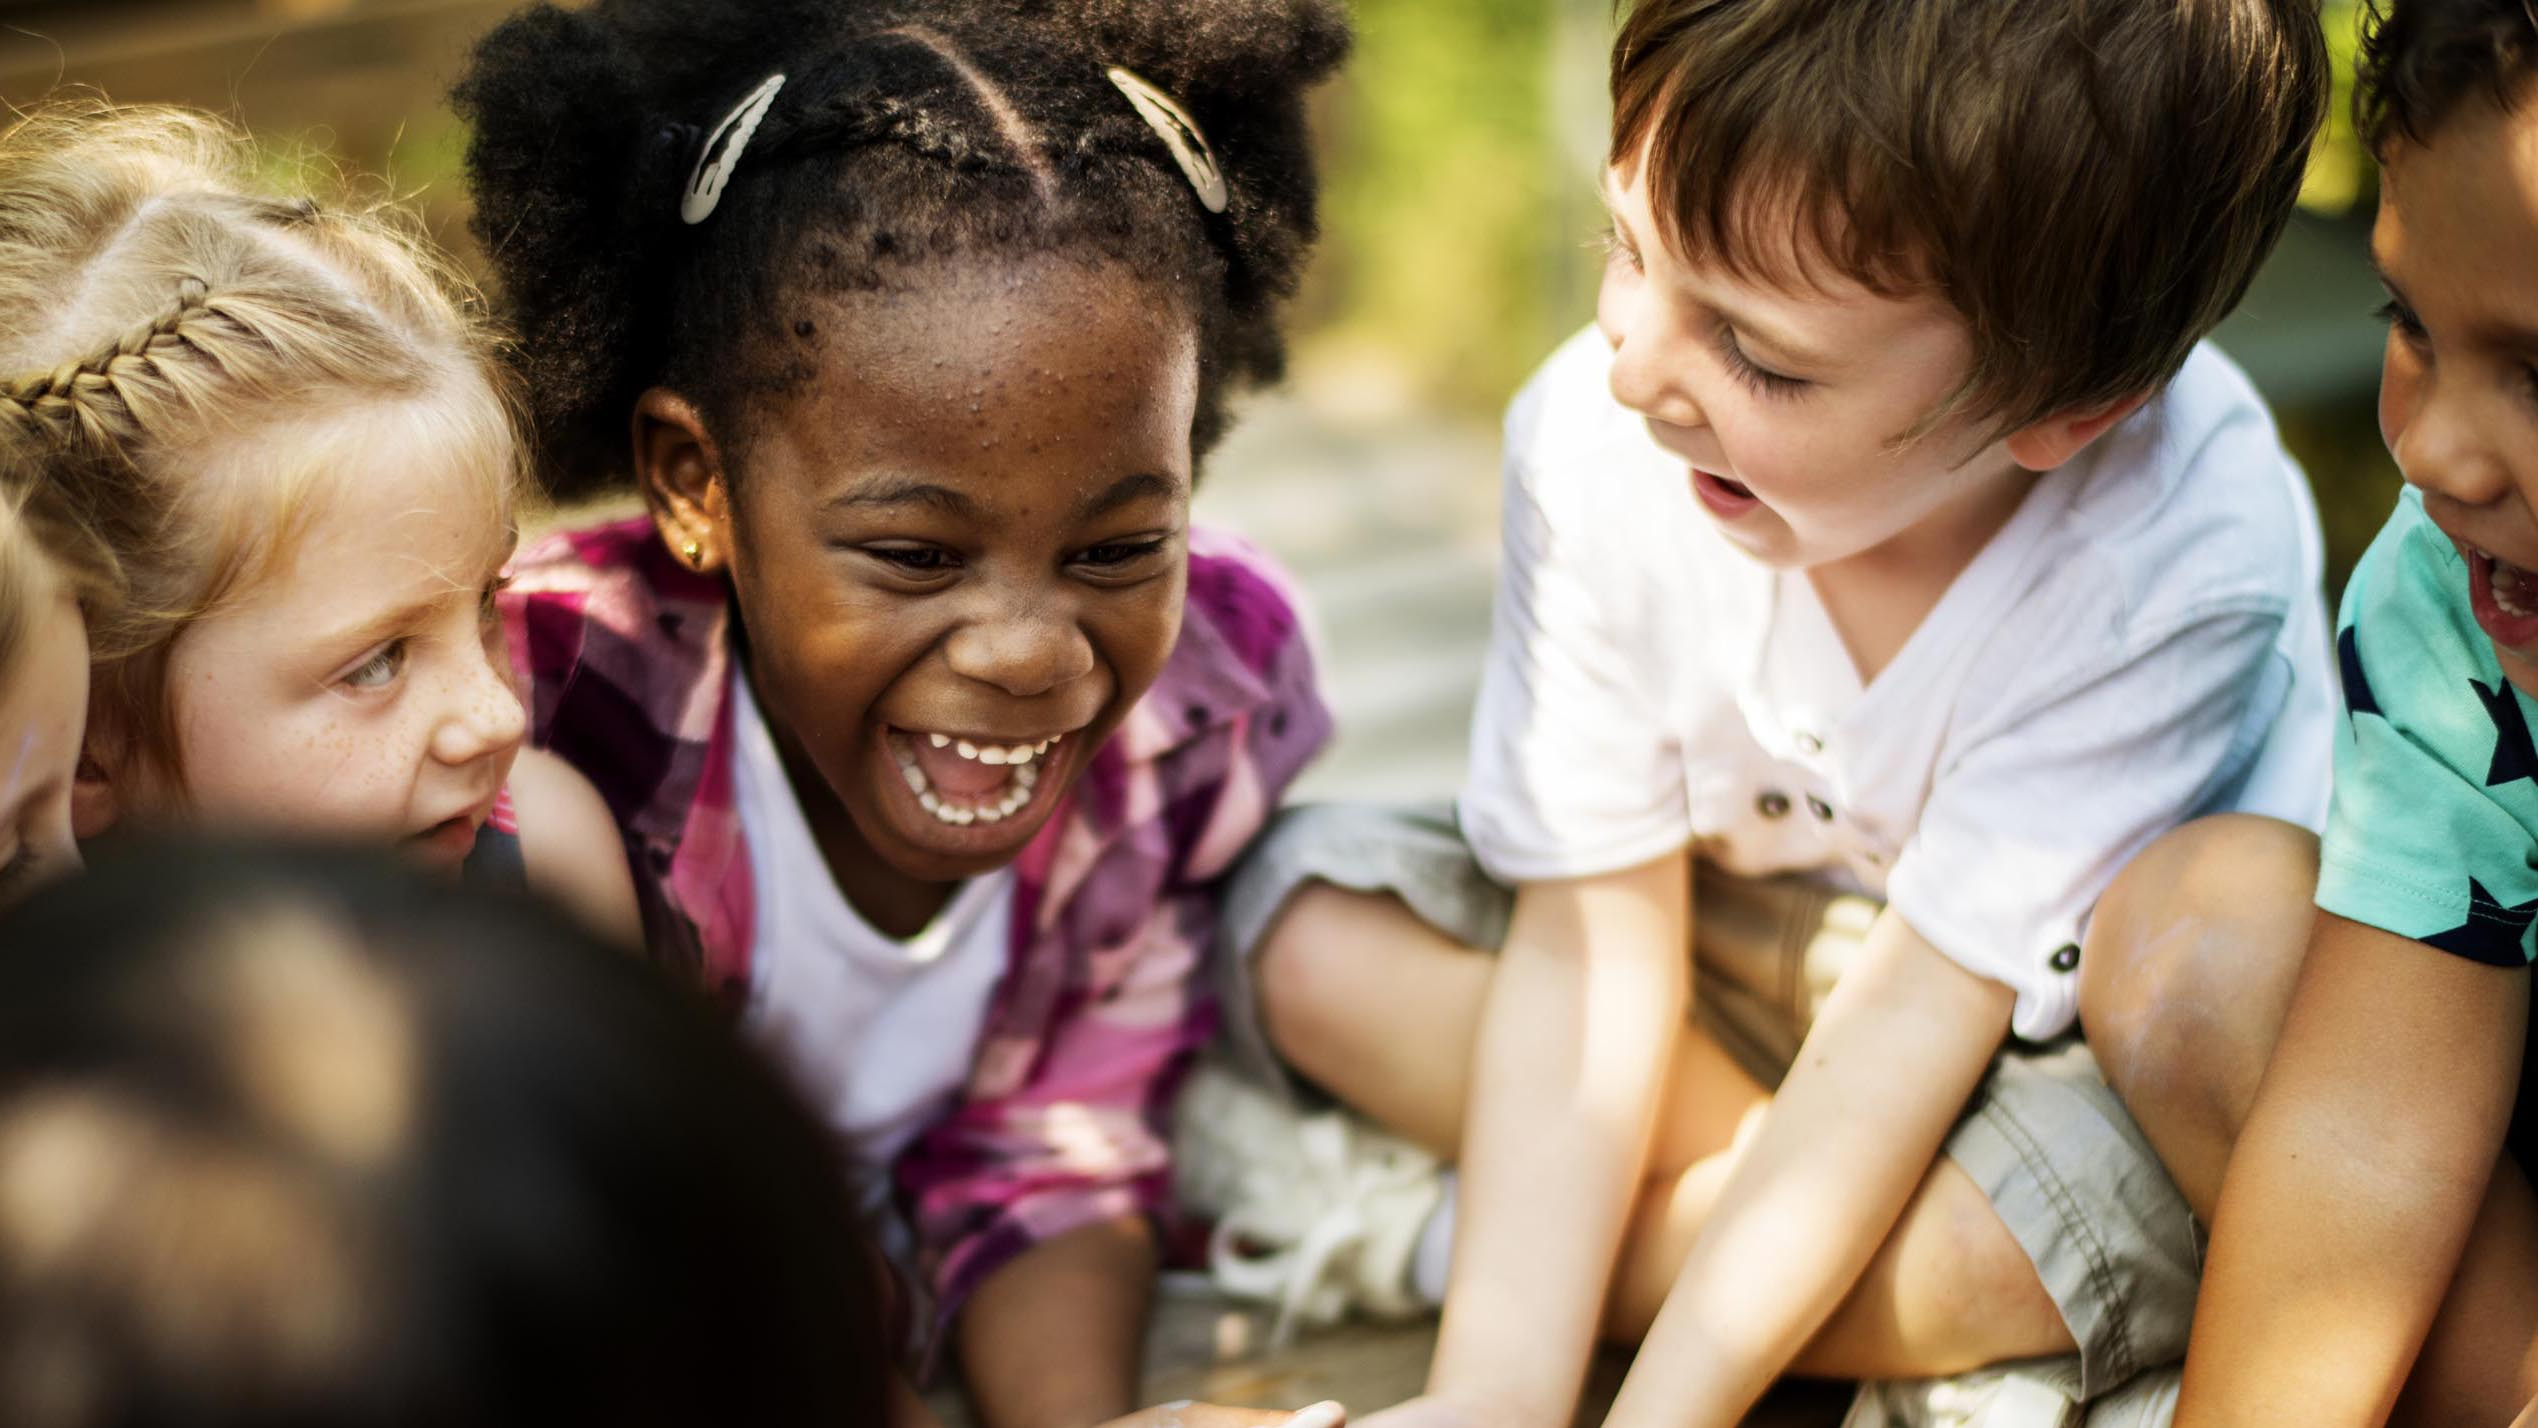human: (1295, 1, 2341, 1428), (421, 8, 1362, 1428), (1, 99, 538, 1115), (2221, 1, 2538, 1428)
